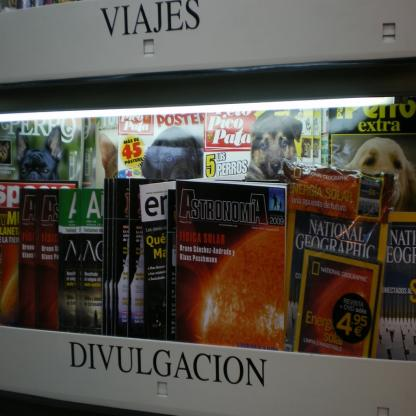book: (0, 155, 416, 364)
